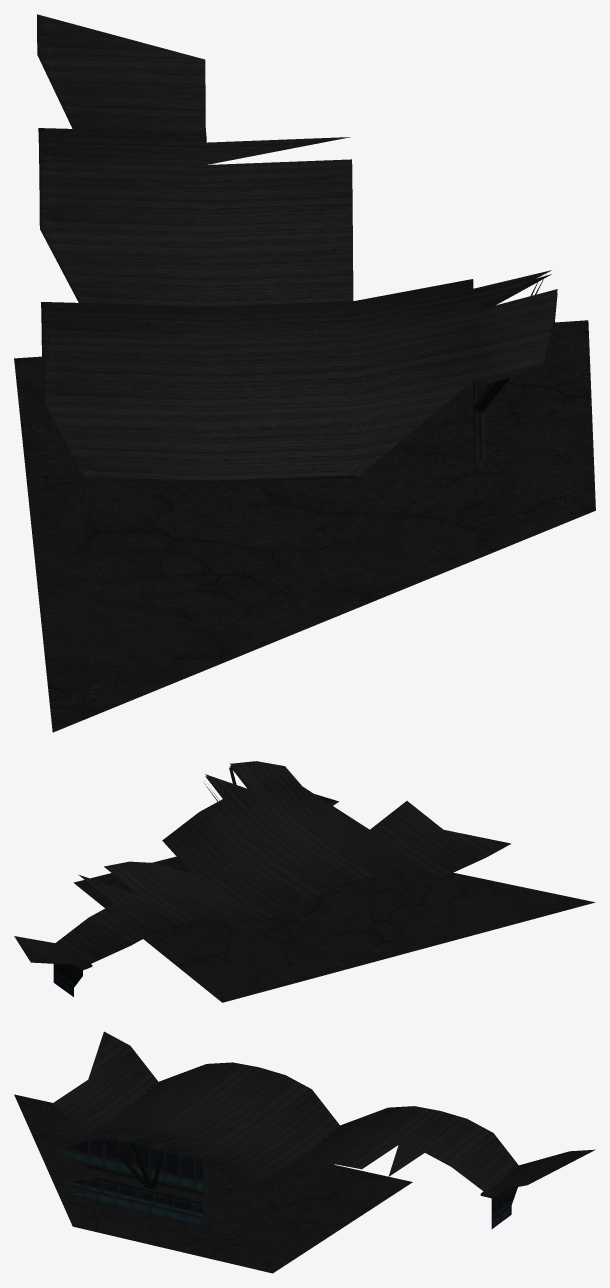
File: cell_-2_0.gltf
3 renders of one model, top to bottom at view 1: azimuth 30°, elevation 25°; view 2: azimuth 150°, elevation 25°; view 3: azimuth 270°, elevation 25°, orthographic. The views are drawn at different scales.
Parts seen in each view (by area): view 1: cell_-2_0; view 2: cell_-2_0; view 3: cell_-2_0.
Boxes of the visible parts, <box> form: cell_-2_0: <box>14,14,595,732</box>; cell_-2_0: <box>14,761,595,1002</box>; cell_-2_0: <box>14,1031,595,1273</box>.
Size of the model in its own units: 209 by 52.9 by 262.
Materials: 3 (3 with a texture image).
